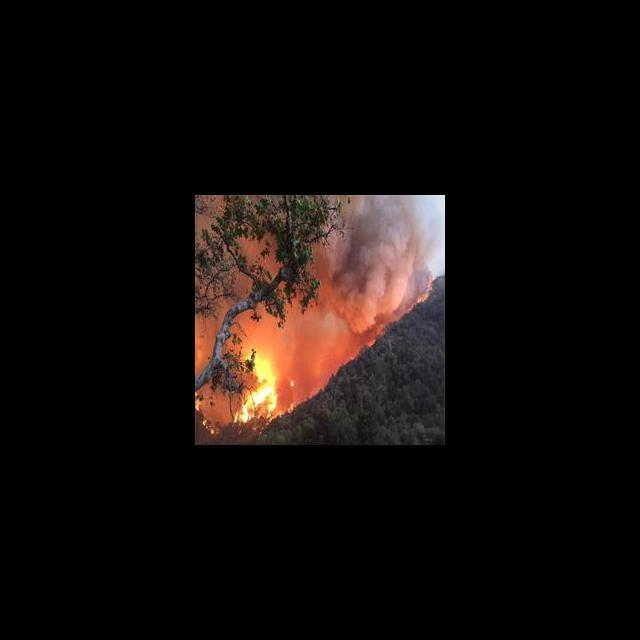Fire: (195, 346, 281, 424)
Smoke: (318, 195, 441, 333)
